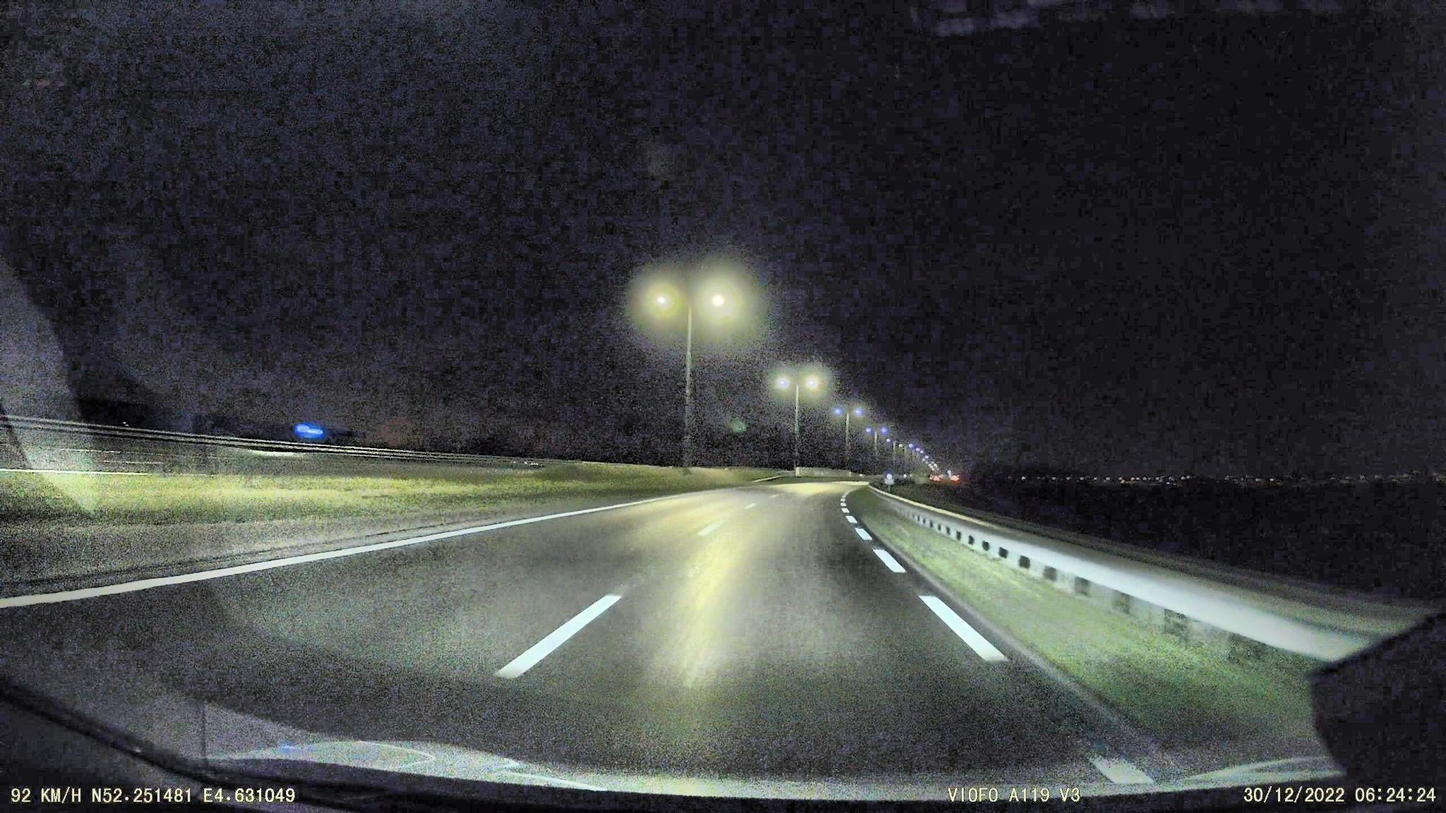Roads: (27, 484, 1107, 777)
